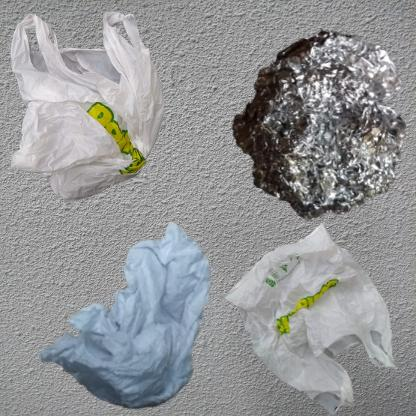aluminio: (213, 10, 416, 249)
bolsa: (213, 213, 411, 416), (10, 10, 165, 203)
papel: (10, 213, 269, 416)
